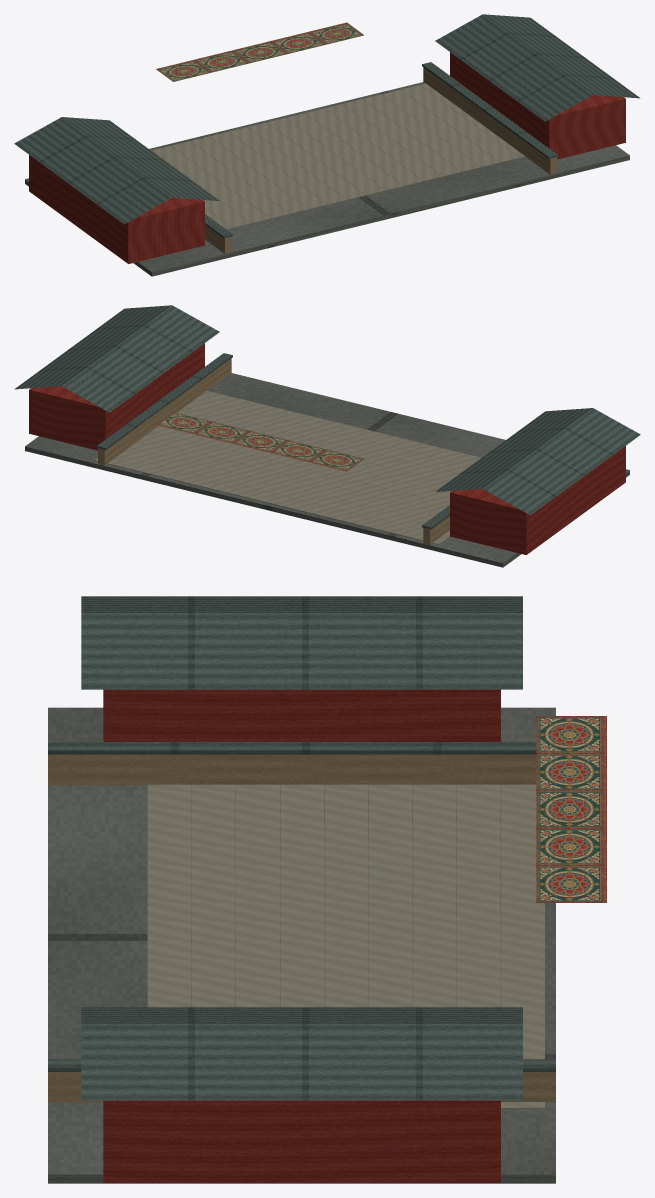
The model's file is hall_courtyard.glb.
The picture shows the model from 3 angles, top to bottom: view 1: azimuth 30°, elevation 25°; view 2: azimuth 150°, elevation 25°; view 3: azimuth 270°, elevation 25°; orthographic projection. The views are drawn at different scales.
Parts seen in each view (by area): view 1: hall_courtyard0; view 2: hall_courtyard0; view 3: hall_courtyard0.
Boxes of the visible parts, <box> form: hall_courtyard0: <box>14,14,640,276</box>; hall_courtyard0: <box>14,305,640,567</box>; hall_courtyard0: <box>48,596,606,1183</box>.
Size of the model in its own units: 54 by 7.03 by 25.3.
1 material, 1 textured.
